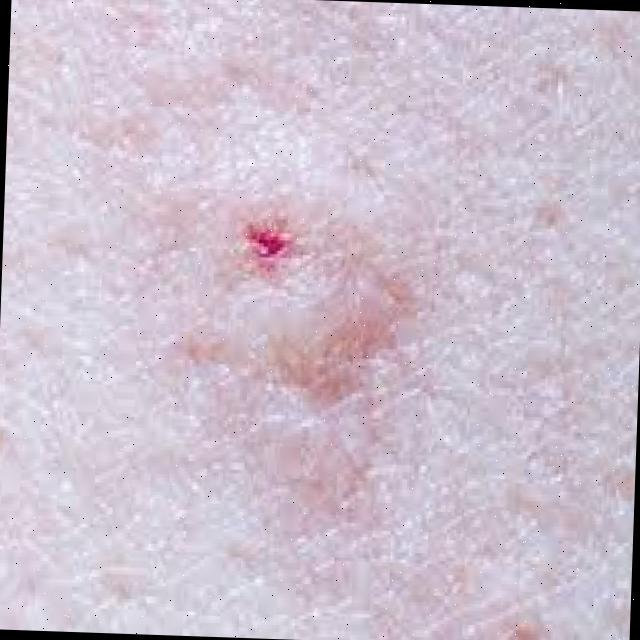kene: (157, 173, 426, 437)
